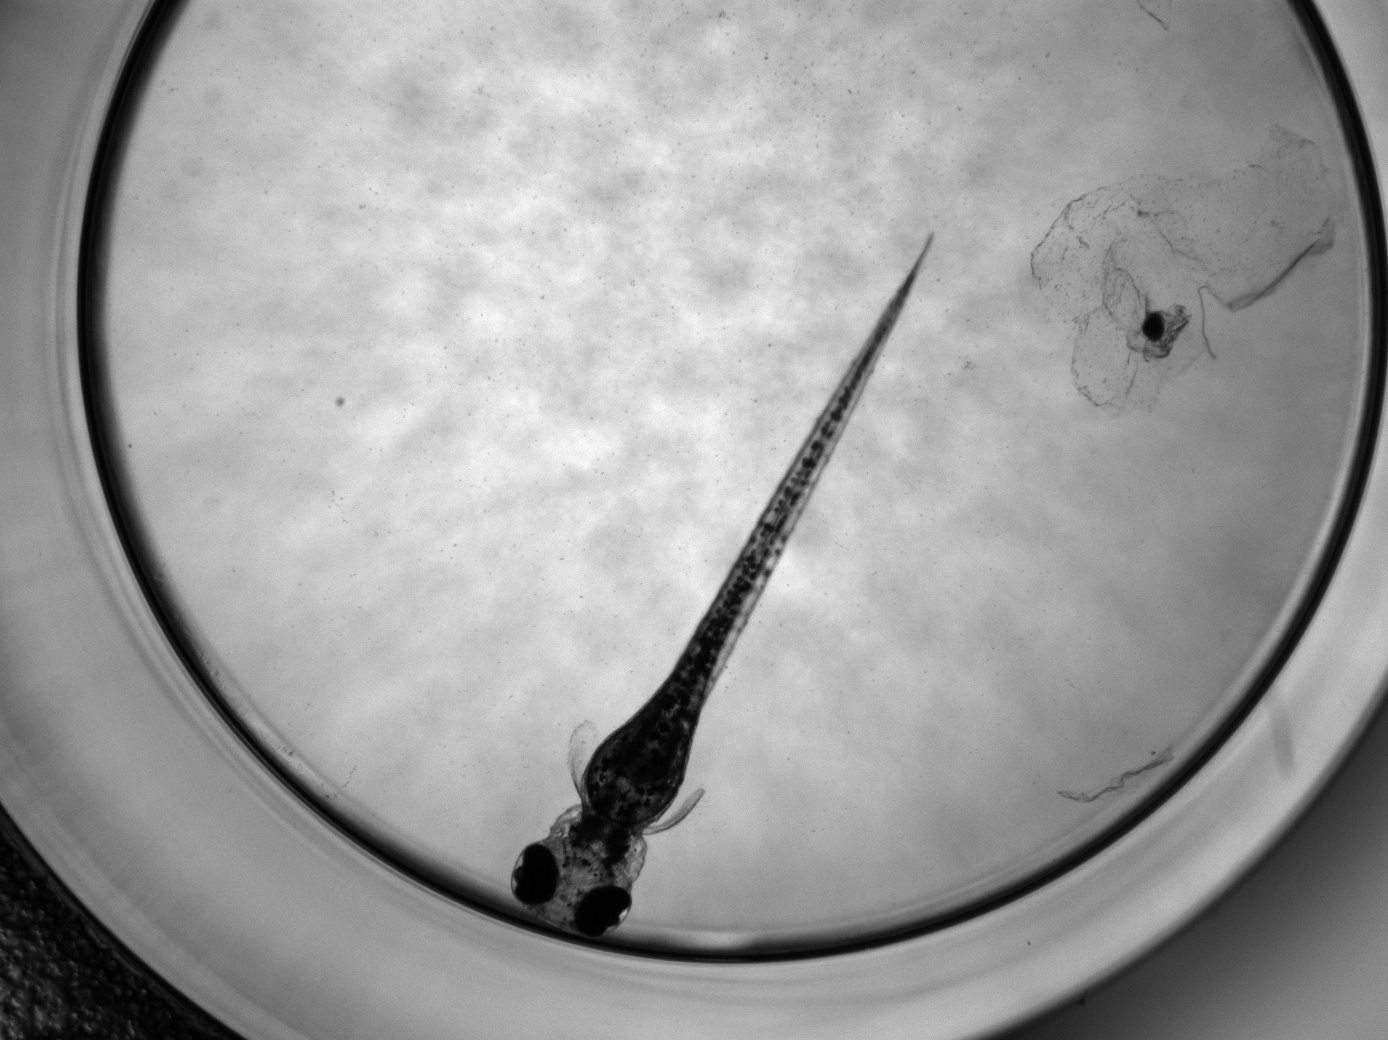embryo: (510, 228, 936, 939)
eye: (574, 885, 632, 938), (511, 844, 558, 906)
yolksac: (584, 723, 690, 827)
